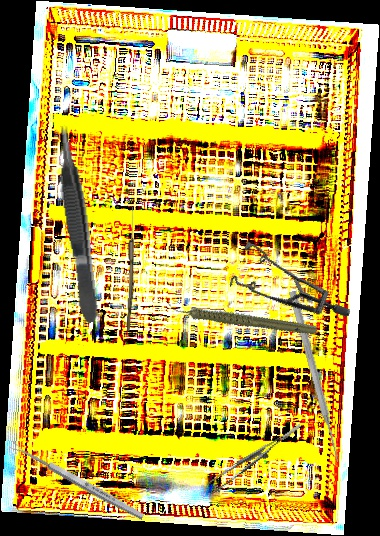Handpiece: (165, 270, 320, 365)
Pusher: (286, 290, 344, 463)
Speculum: (214, 214, 353, 361)
Surgical Spoon: (8, 439, 146, 522), (126, 206, 136, 332)
Tissue Forceps: (52, 123, 101, 325), (201, 423, 310, 495)
